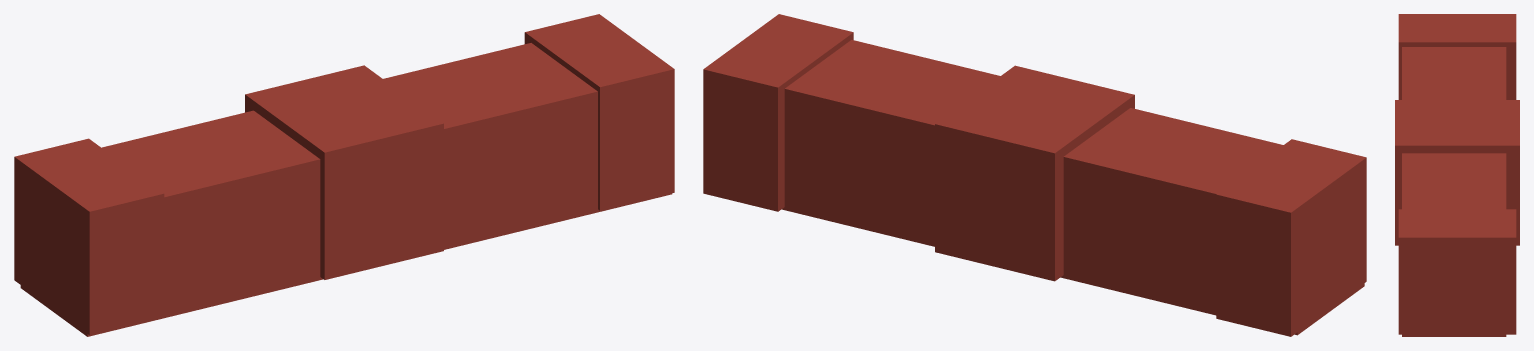
File: KOL_T1_WRITERS__01_Shell.fbx
3 views of the same model, side by side, from view 1: azimuth 30°, elevation 25°; view 2: azimuth 150°, elevation 25°; view 3: azimuth 270°, elevation 25° (orthographic). The views are drawn at different scales.
Visible parts, largest first — view 1: KOL_T1_WRITERS__01_Shell__KOL_T1_HeritageRed; view 2: KOL_T1_WRITERS__01_Shell__KOL_T1_HeritageRed; view 3: KOL_T1_WRITERS__01_Shell__KOL_T1_HeritageRed.
Part boxes in pixels (left/top/right/bottom): KOL_T1_WRITERS__01_Shell__KOL_T1_HeritageRed: left=14, top=14, right=674, bottom=336; KOL_T1_WRITERS__01_Shell__KOL_T1_HeritageRed: left=703, top=14, right=1366, bottom=336; KOL_T1_WRITERS__01_Shell__KOL_T1_HeritageRed: left=1395, top=14, right=1519, bottom=336.
Size of the model in its own units: 314 by 67 by 74.
